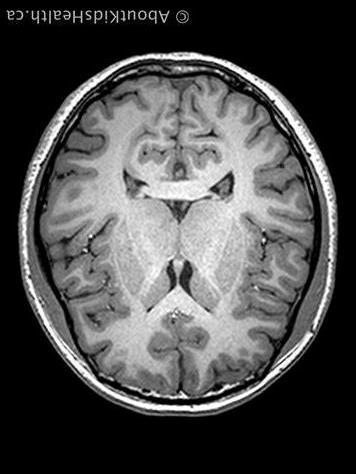Normal_Brain: (1, 9, 356, 474)
